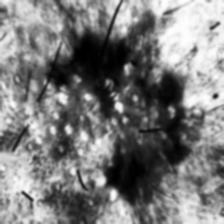Potentially Malignant Skin Tumors: (28, 40, 184, 202)
